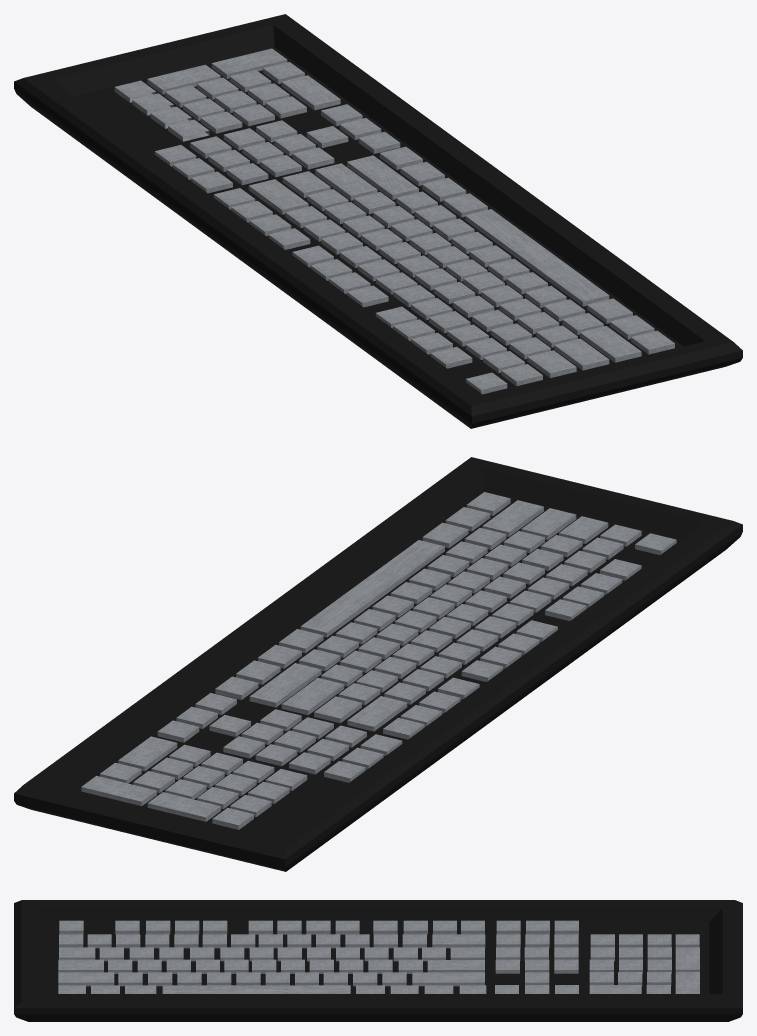
File: teclado.fbx
The picture shows the model from 3 angles, top to bottom: view 1: azimuth 30°, elevation 25°; view 2: azimuth 150°, elevation 25°; view 3: azimuth 270°, elevation 25°; orthographic projection. The views are drawn at different scales.
Visible parts, largest first — view 1: keyoboard:Mesh; view 2: keyoboard:Mesh; view 3: keyoboard:Mesh.
Boxes of the visible parts, x1=… form: keyoboard:Mesh: x1=14, y1=14, x2=742, y2=428; keyoboard:Mesh: x1=14, y1=457, x2=742, y2=871; keyoboard:Mesh: x1=14, y1=900, x2=742, y2=1021.
Size of the model in its own units: 0.8208 by 0.0774 by 2.4.
2 materials, 1 textured.
